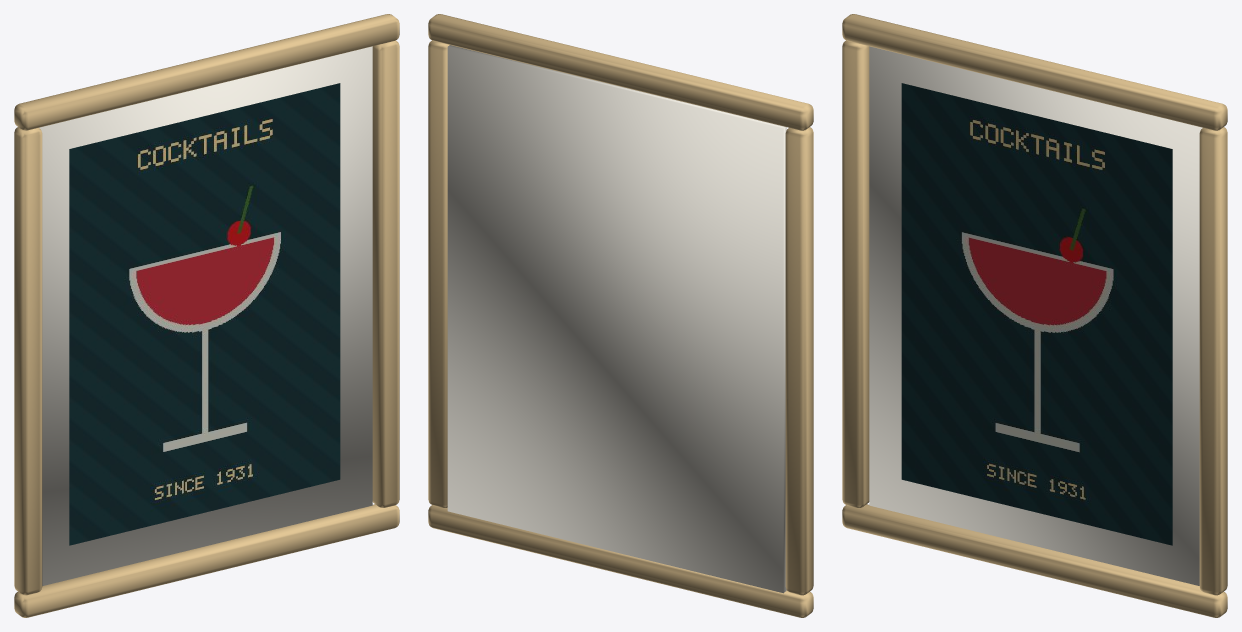
The model's file is poster_cocktails.glb.
3 renders of one model, left to right at view 1: azimuth 30°, elevation 25°; view 2: azimuth 150°, elevation 25°; view 3: azimuth 330°, elevation 25°, orthographic.
Parts seen in each view (by area): view 1: Print, Gilt frame, Backing; view 2: Backing, Gilt frame; view 3: Print, Gilt frame, Backing.
Part boxes in pixels (x1=…): Print: x1=69, y1=83, x2=340, y2=545; Gilt frame: x1=14, y1=14, x2=399, y2=617; Backing: x1=39, y1=46, x2=372, y2=585; Backing: x1=447, y1=45, x2=786, y2=593; Gilt frame: x1=428, y1=14, x2=813, y2=617; Print: x1=901, y1=83, x2=1172, y2=545; Gilt frame: x1=842, y1=14, x2=1227, y2=617; Backing: x1=869, y1=46, x2=1202, y2=585.
Size of the model in its own units: 0.7 by 0.9 by 0.035.
Materials: 3 (1 with a texture image).
